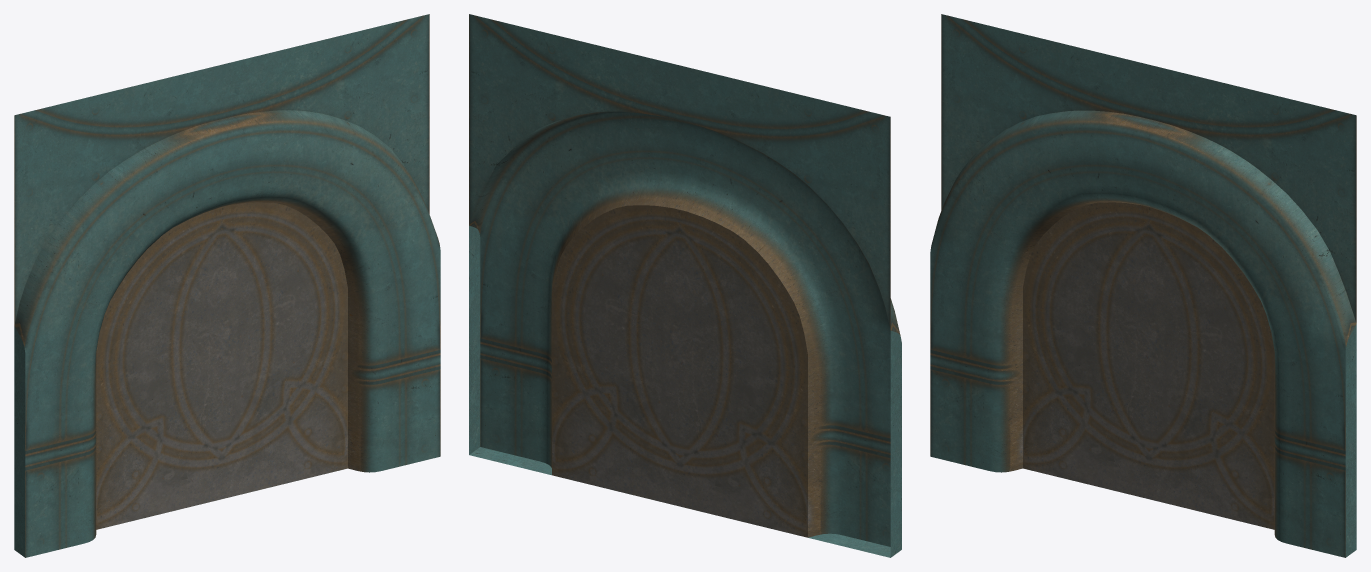
File: SM_Wall02.FBX
3 renders of one model, left to right at view 1: azimuth 30°, elevation 25°; view 2: azimuth 150°, elevation 25°; view 3: azimuth 330°, elevation 25°, orthographic.
Parts seen in each view (by area): view 1: SM_Wall02; view 2: SM_Wall02; view 3: SM_Wall02.
Part boxes in pixels (left/top/right/bottom): SM_Wall02: left=14, top=14, right=440, bottom=557; SM_Wall02: left=469, top=14, right=901, bottom=557; SM_Wall02: left=930, top=14, right=1356, bottom=557.
Bounding box in the file's own units: 400 × 18.4 × 400.
